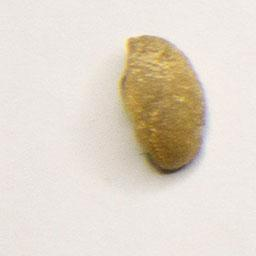defect: (115, 28, 211, 178)
